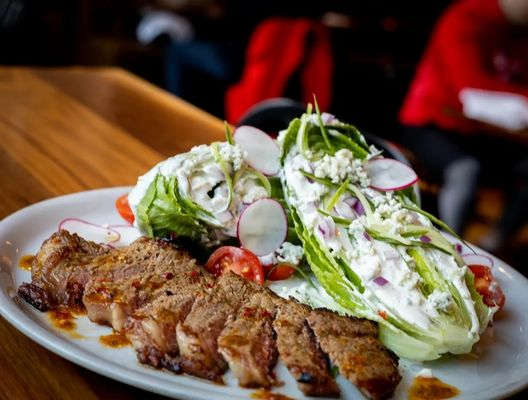curry: (0, 58, 522, 394)
